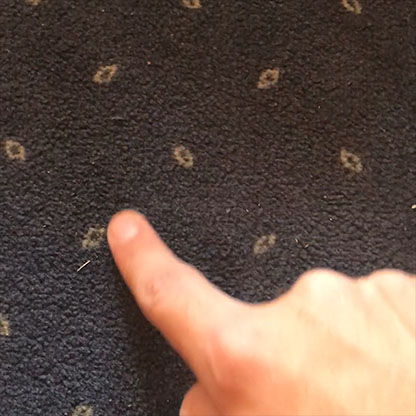fingertip: (103, 207, 154, 253)
